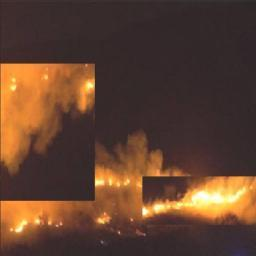Low smoke: (1, 100, 89, 173), (102, 126, 181, 172)
Small fire: (143, 185, 255, 223), (10, 213, 72, 237), (0, 63, 24, 98), (96, 171, 138, 190)
